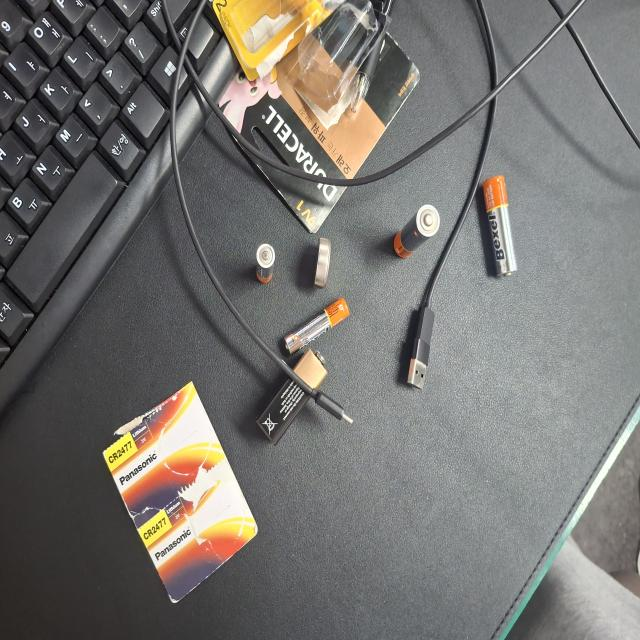9V: (260, 413, 330, 510)
AA: (131, 163, 210, 212), (153, 265, 193, 330)
AAA: (222, 386, 267, 474), (178, 485, 214, 513)
COIN: (177, 412, 217, 434)
